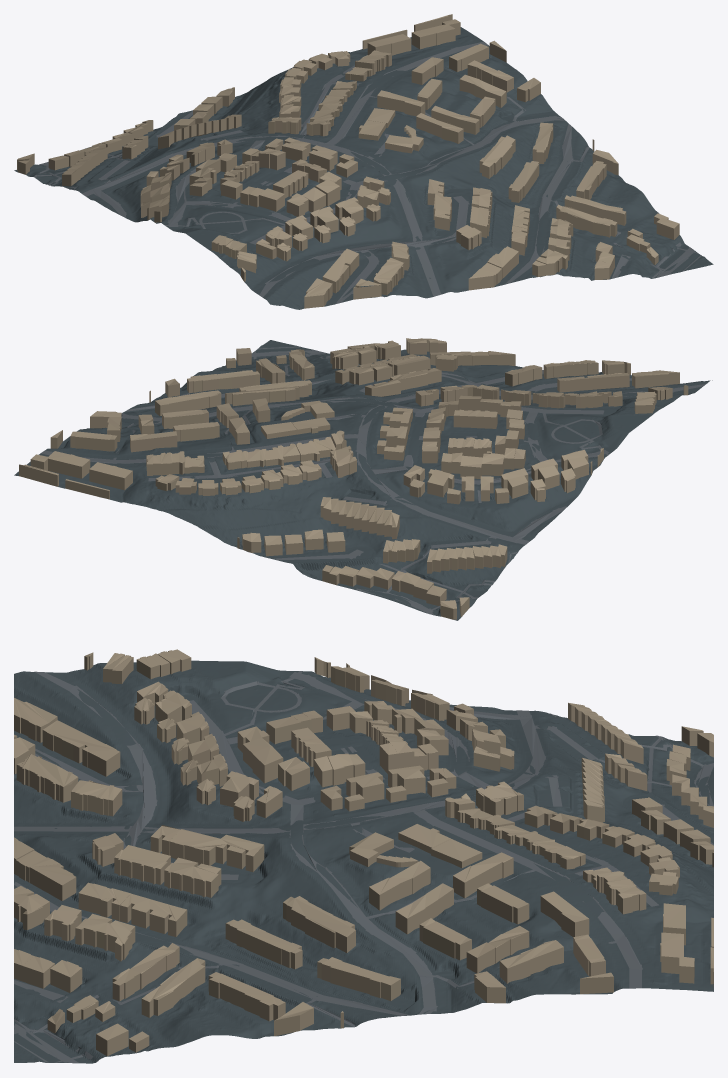
The model's file is epsg26910-1444-10875.lod0.glb.
The picture shows the model from 3 angles, top to bottom: view 1: azimuth 30°, elevation 25°; view 2: azimuth 150°, elevation 25°; view 3: azimuth 270°, elevation 25°; orthographic projection. The views are drawn at different scales.
Visible parts, largest first — view 1: epsg26910-1444-10875-lod0; view 2: epsg26910-1444-10875-lod0; view 3: epsg26910-1444-10875-lod0.
Part boxes in pixels (bbox=[...]): epsg26910-1444-10875-lod0: bbox=[14, 14, 713, 309]; epsg26910-1444-10875-lod0: bbox=[14, 338, 712, 620]; epsg26910-1444-10875-lod0: bbox=[14, 649, 713, 1063].
Bounding box in the file's own units: 384 × 72.31 × 384.
